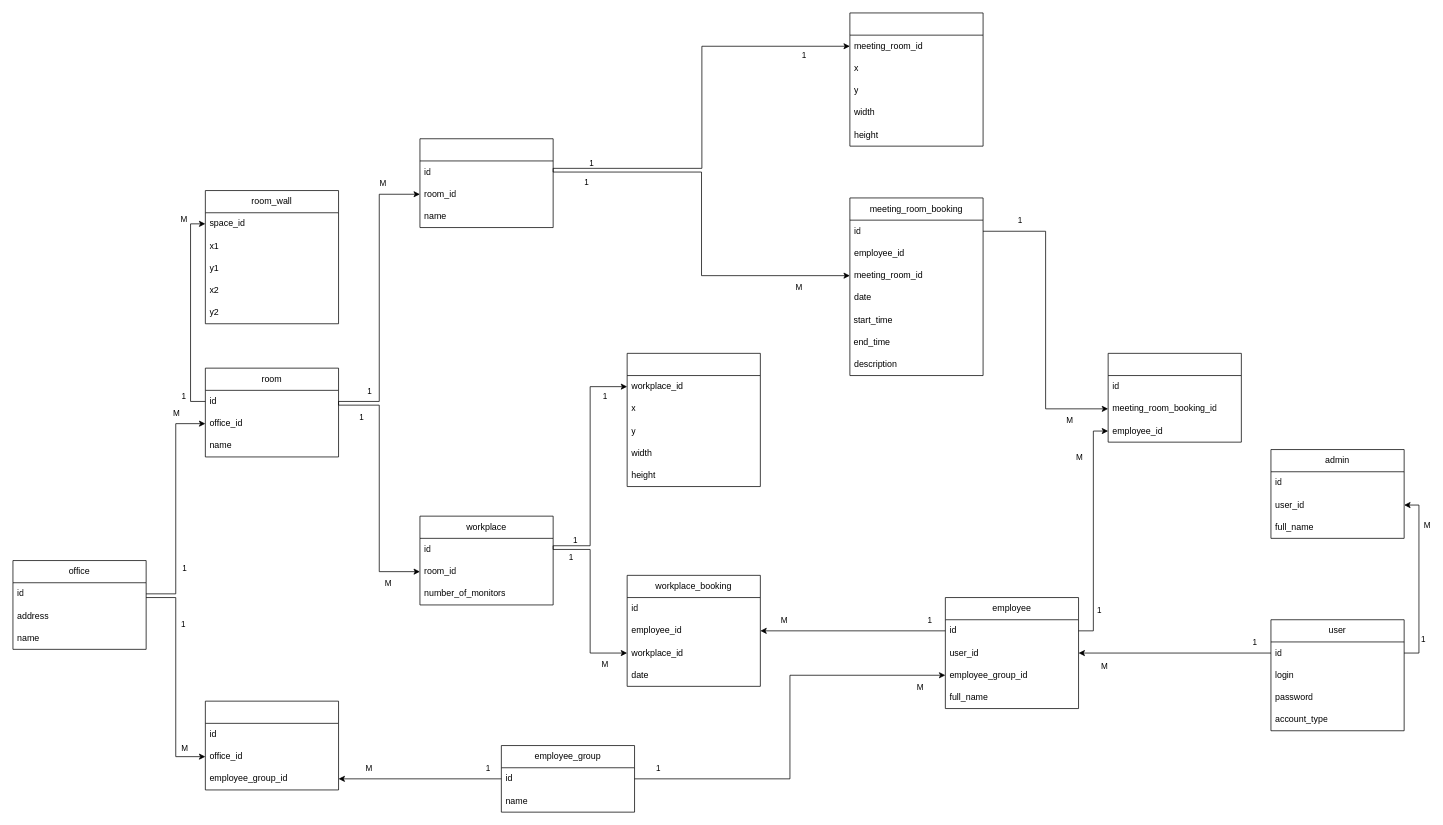
Image size: 1443x825. Some labels were removed from this diagram. The shapes that lost their labels are listed below. From the top down, each one's box as (x1, y1, x2, y2) in pixels, then its label:
(849, 12, 983, 146): meeting_room_visual
(419, 138, 553, 228): meeting_room
(1107, 353, 1241, 442): meeting_participant
(626, 353, 760, 487): workspace_visual
(205, 700, 339, 790): office_employee_group
